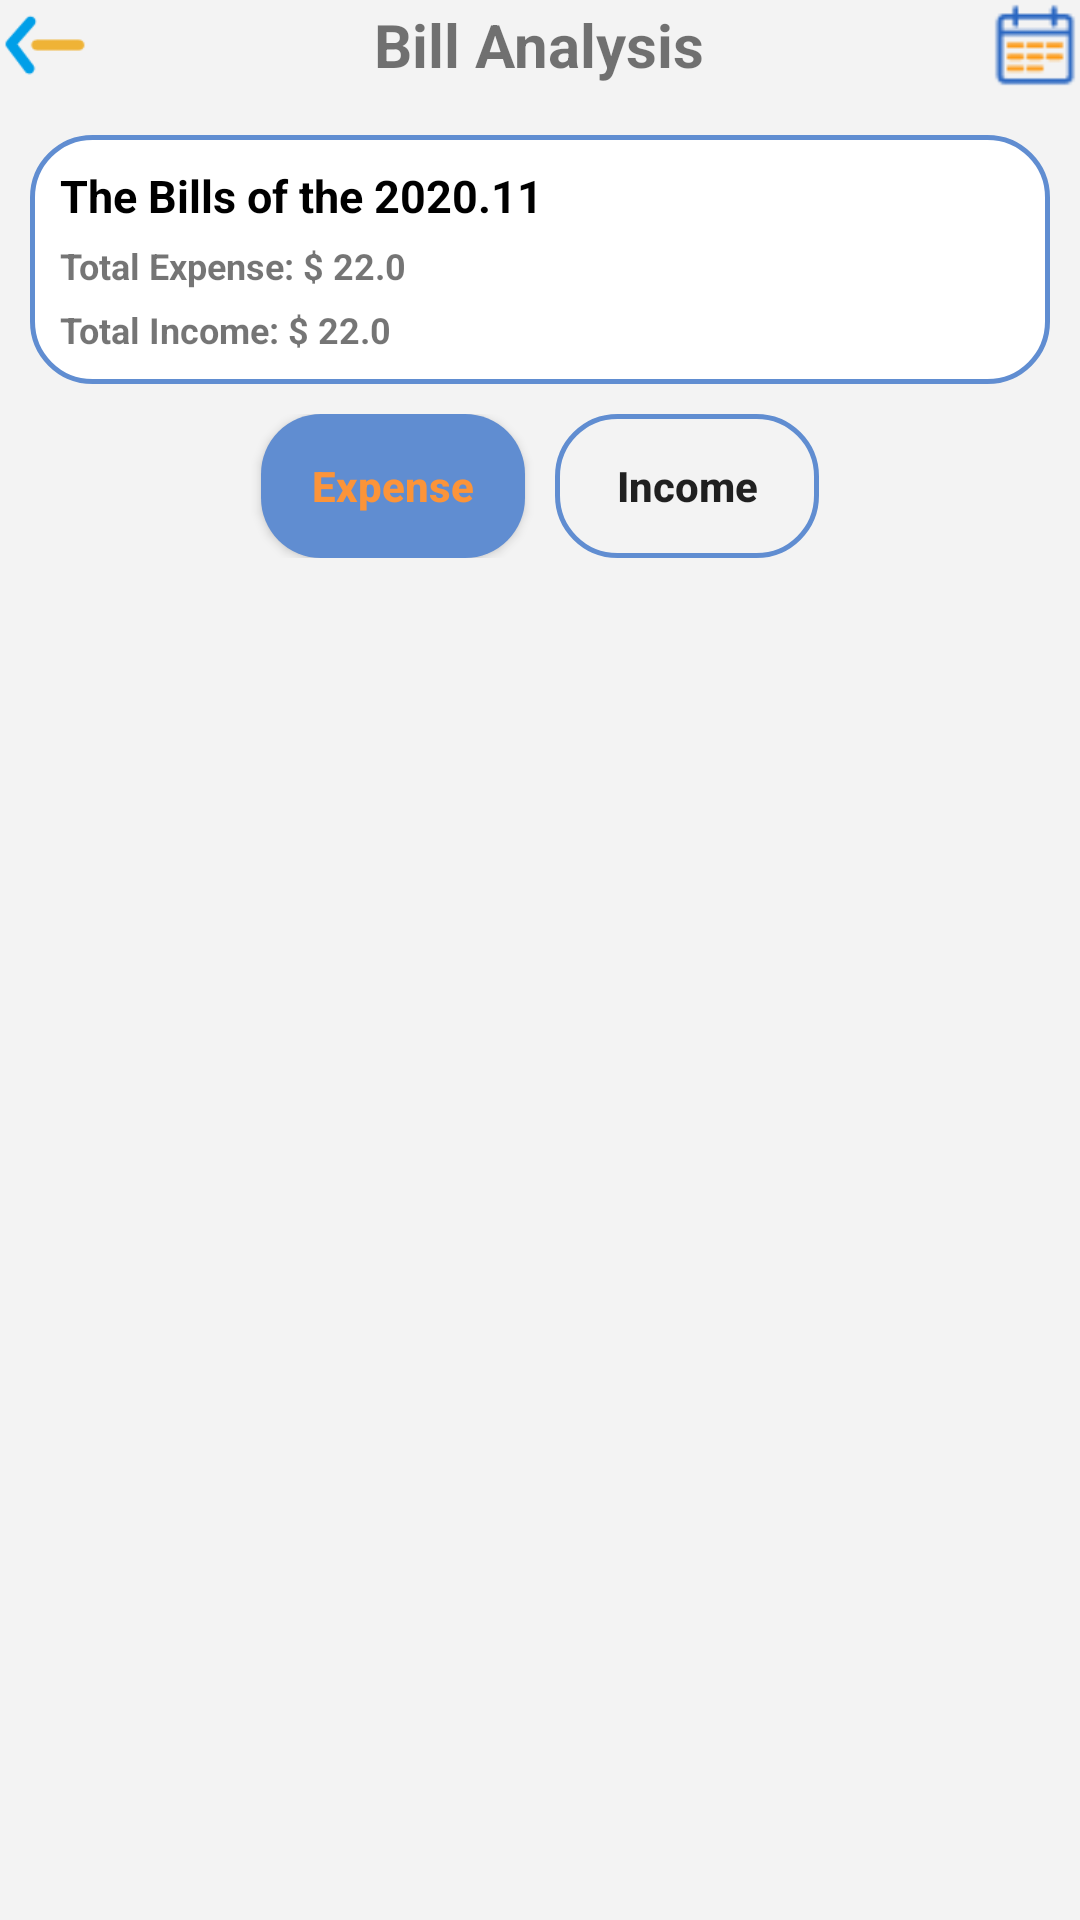

Screen size 1080px×1920px. Icon name, then its box in pixels as box(x1, y1, x2, y2):
calendar: box(995, 5, 1075, 85)
